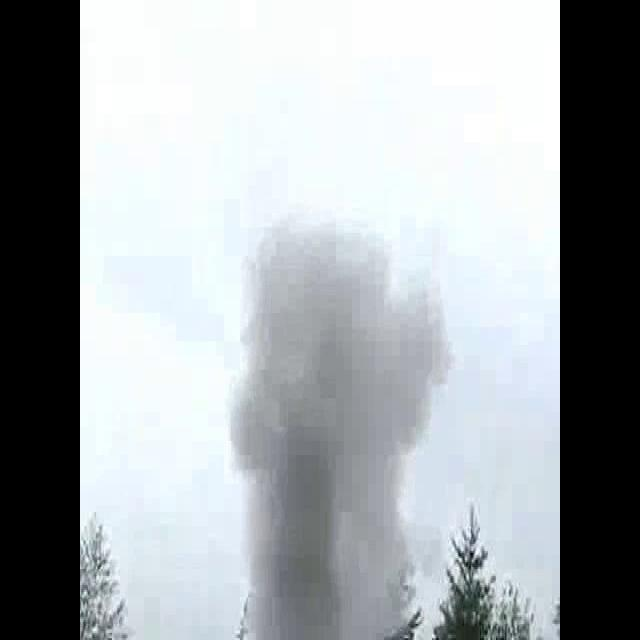Smoke: (217, 214, 459, 640)
